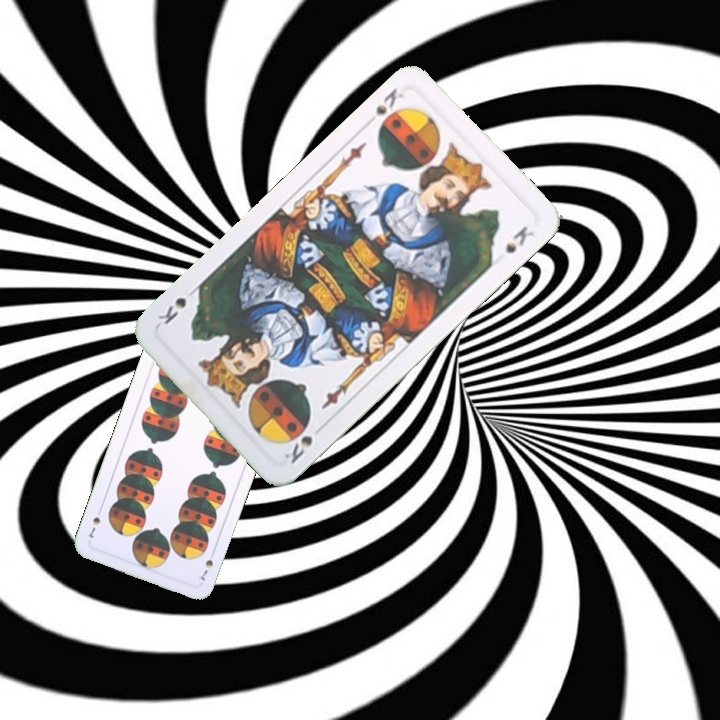S7: (194, 546, 218, 585)
SK: (280, 431, 315, 467), (371, 84, 407, 118)
